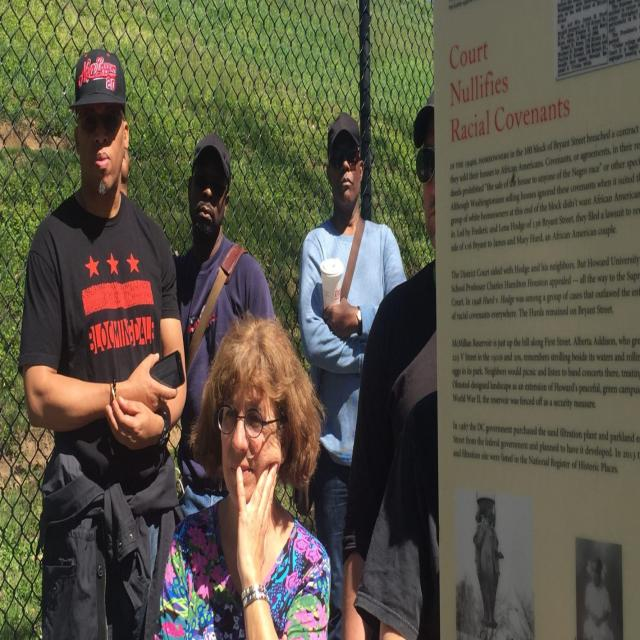body: (16, 41, 192, 640), (153, 306, 332, 640), (297, 110, 408, 640), (341, 85, 441, 640), (173, 130, 280, 519), (448, 492, 634, 640)
